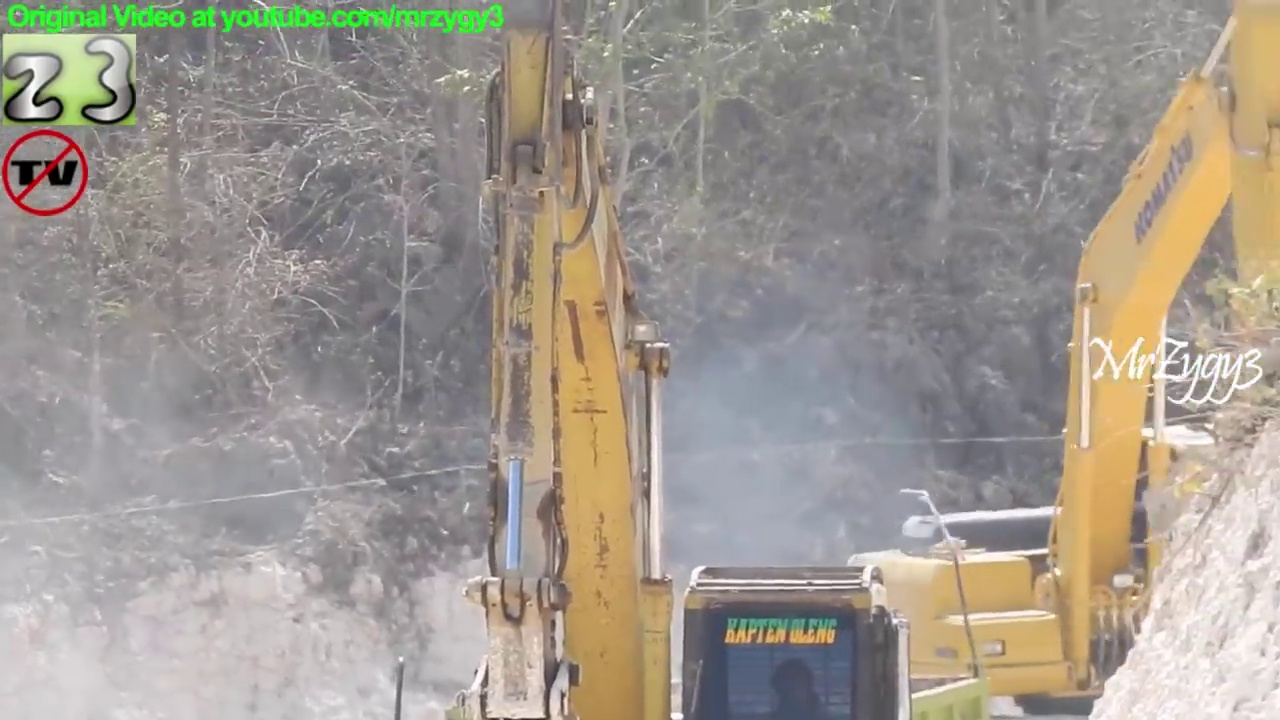excavator: (791, 6, 1280, 720), (441, 1, 924, 720)
truck: (443, 658, 1002, 720)
